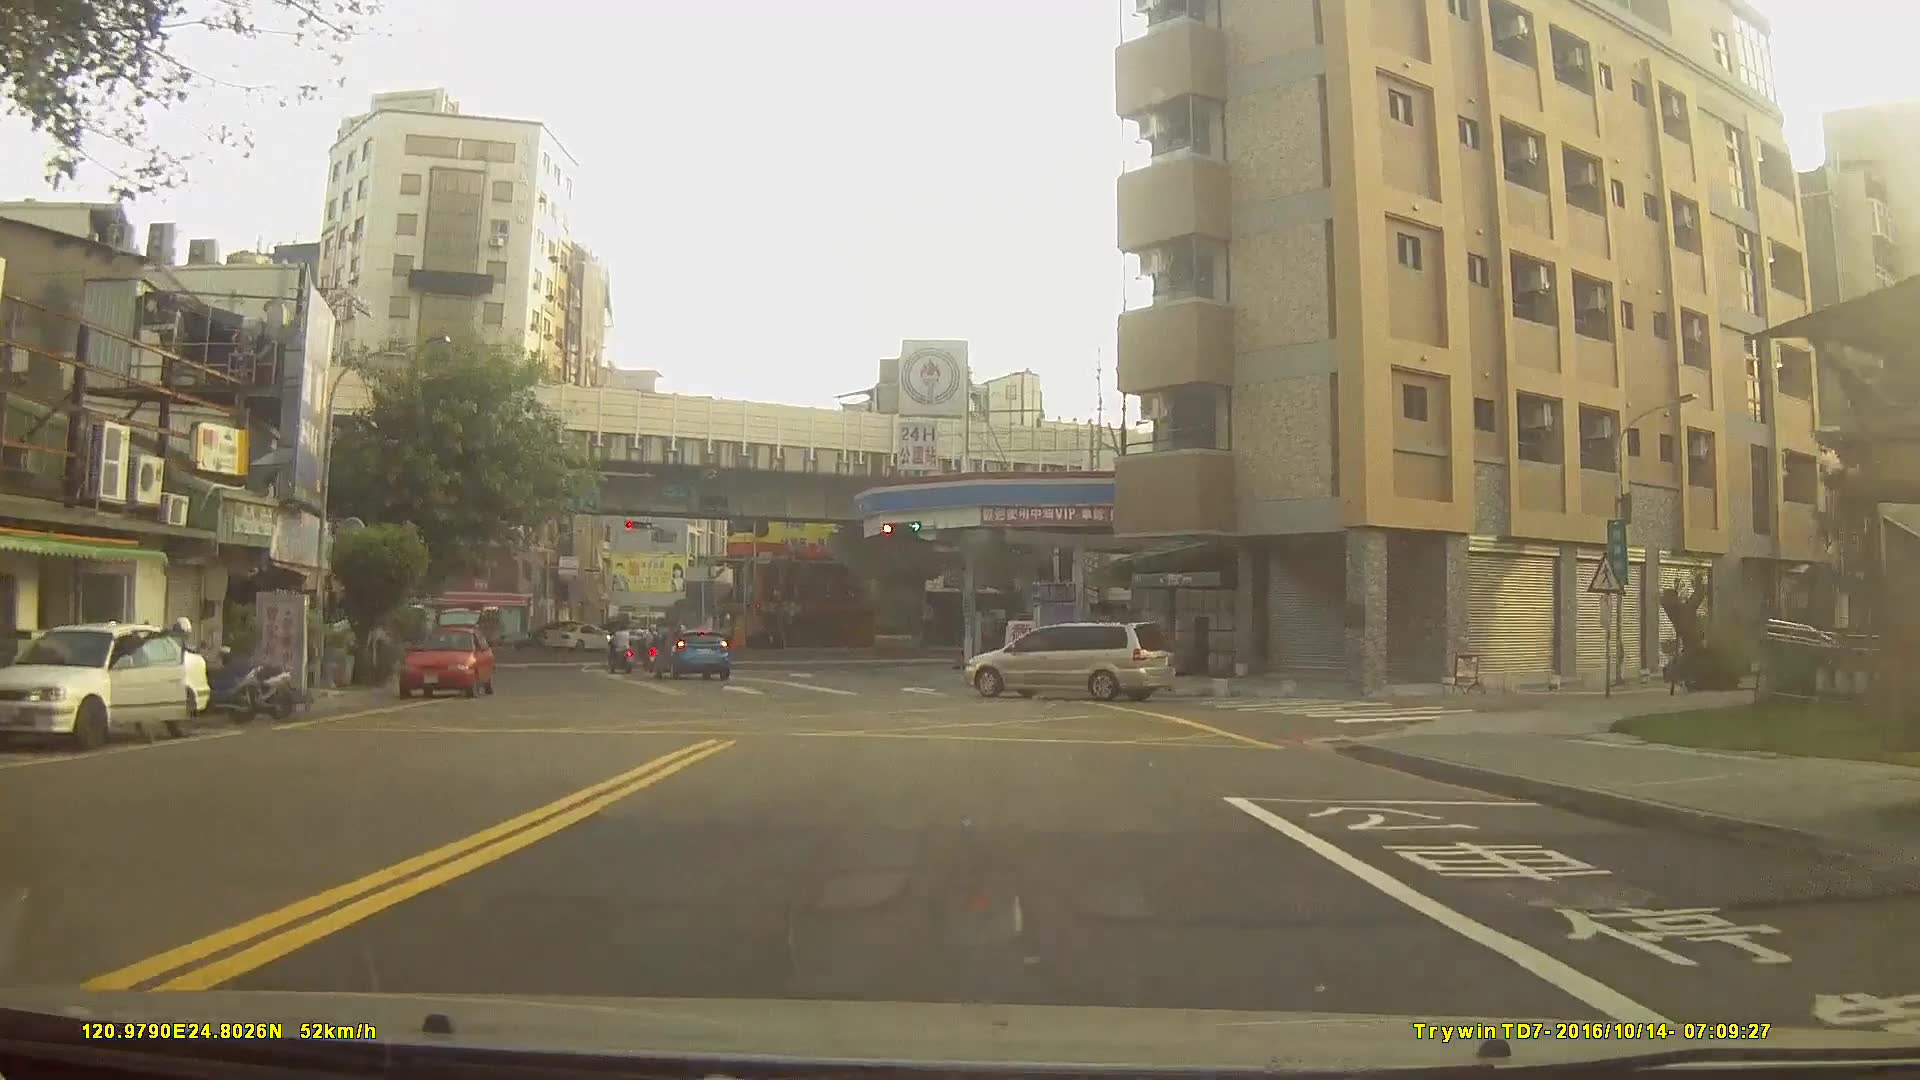rider: (603, 619, 633, 671)
vehicle: (0, 621, 210, 749), (961, 618, 1173, 698), (395, 625, 495, 698), (648, 627, 730, 679), (507, 612, 581, 644), (542, 622, 616, 650)
